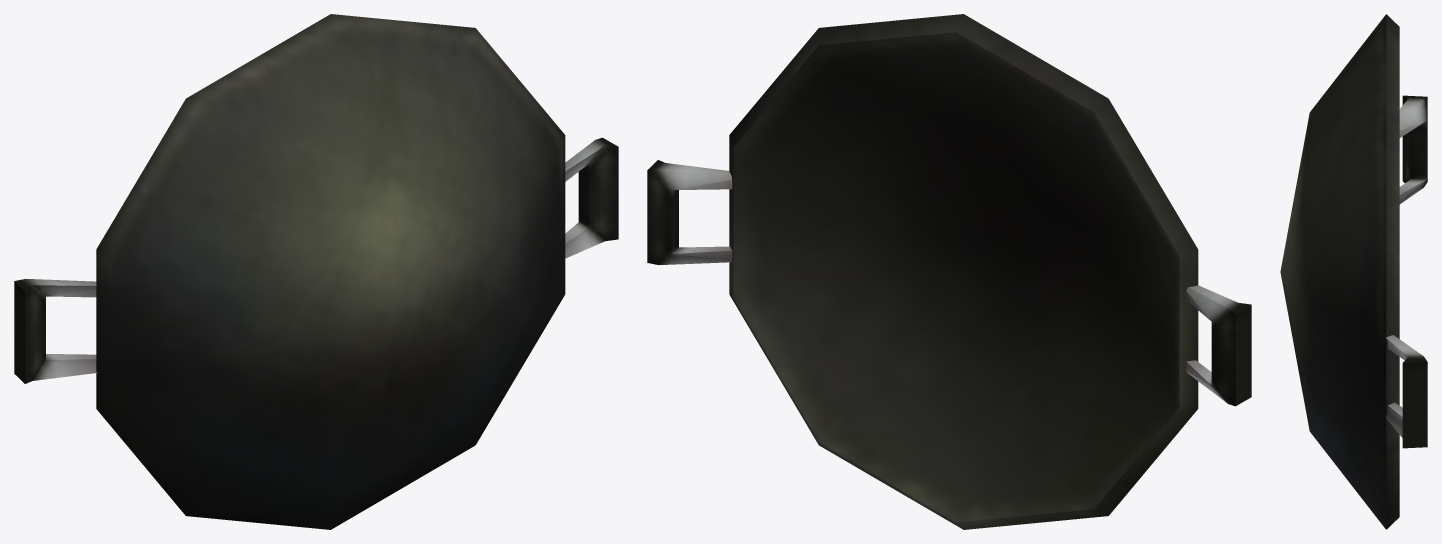
Rendered from chefShield.glb.
The picture shows the model from 3 angles, left to right: view 1: azimuth 30°, elevation 25°; view 2: azimuth 150°, elevation 25°; view 3: azimuth 270°, elevation 25°; orthographic projection. The views are drawn at different scales.
Parts seen in each view (by area): view 1: chefShield; view 2: chefShield; view 3: chefShield.
Part boxes in pixels (x1,y1,x2,y2): chefShield: (14,14,618,529); chefShield: (647,14,1251,529); chefShield: (1280,14,1427,529).
Bounding box in the file's own units: 1.56 × 1.29 × 0.362.
1 material, 1 textured.
